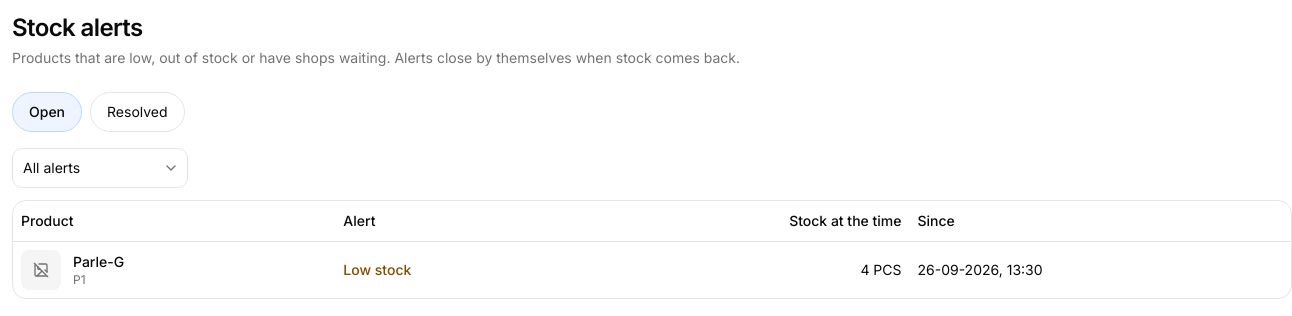
it: alerts › lists open alerts and switches to resolved ones
Expected: the text "Low stock" is shown, top-left (343, 260), bottom-right (411, 278)
Click the tab "Resolved" at (137, 112), box top-left (90, 92), bottom-right (184, 132)
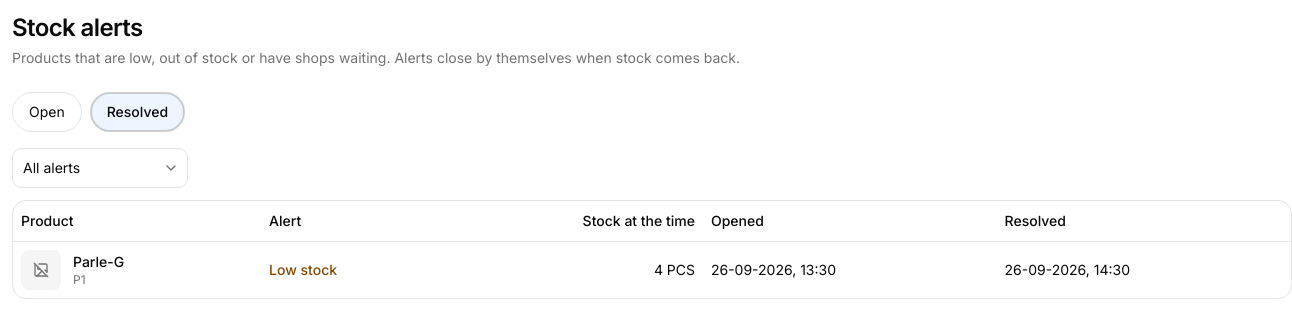
Now the column heading "Resolved" is shown, box top-left (996, 201), bottom-right (1291, 241)
